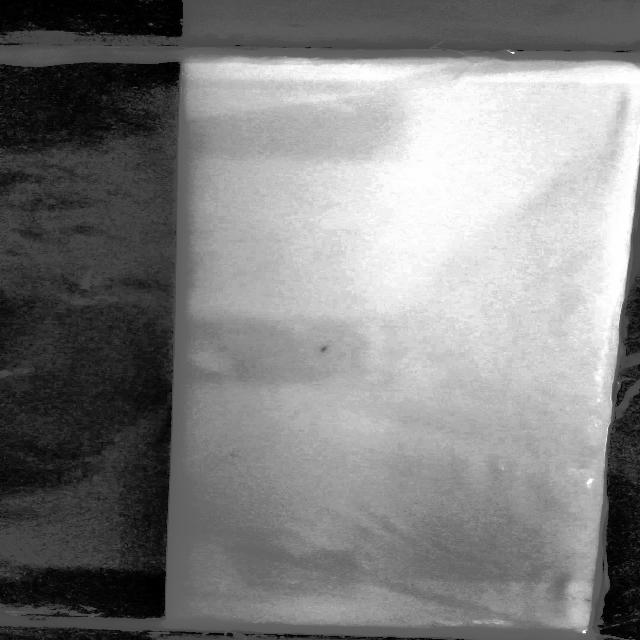shrimp: (312, 338, 337, 358)
